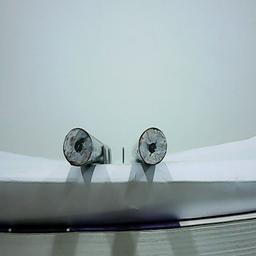pen: (63, 127, 93, 167), (137, 125, 167, 165)
